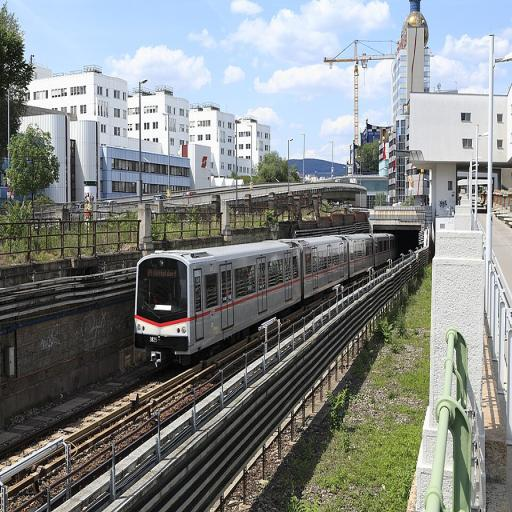V-Wagen: (130, 230, 396, 374)
